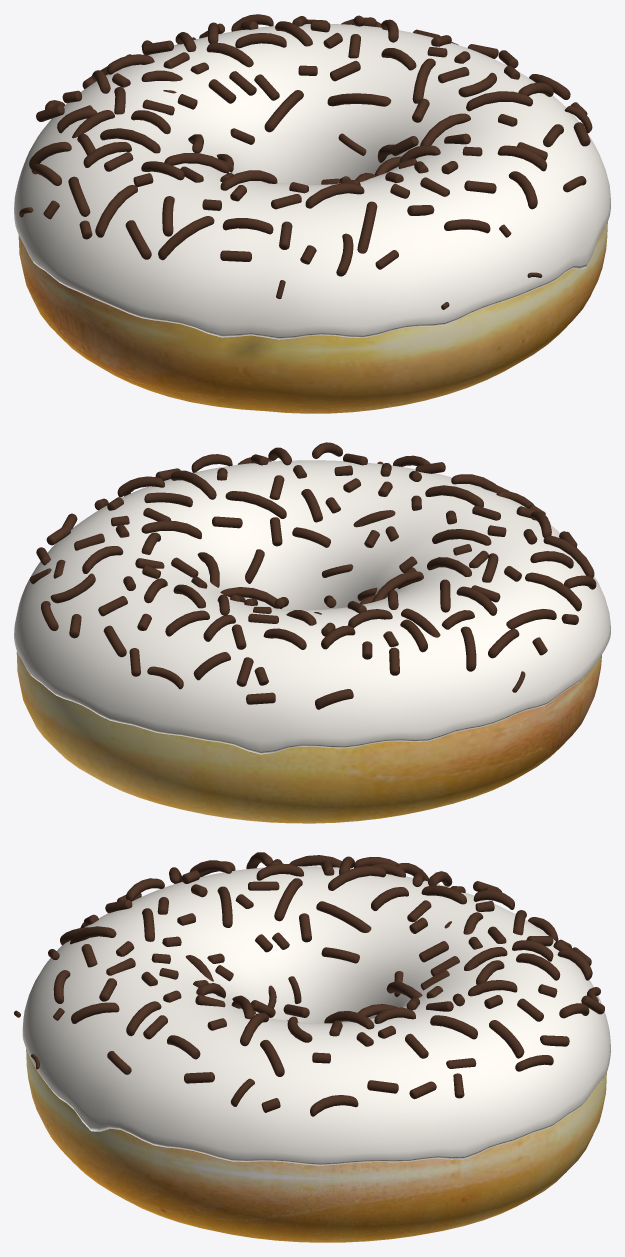
File: white_chocolate_vermicheli.glb
3 views of the same model, one above another, from view 1: azimuth 30°, elevation 25°; view 2: azimuth 150°, elevation 25°; view 3: azimuth 270°, elevation 25° (orthographic). The views are drawn at different scales.
Visible parts, largest first — view 1: white, Torus, blue.002; view 2: white, Torus, blue.002; view 3: white, Torus, blue.002.
Part boxes in pixels (left/top/right/bottom): white: left=14, top=24, right=610, bottom=339; Torus: left=18, top=221, right=607, bottom=413; blue.002: left=19, top=14, right=592, bottom=309; white: left=14, top=460, right=610, bottom=754; Torus: left=16, top=651, right=601, bottom=823; blue.002: left=29, top=442, right=596, bottom=709; white: left=22, top=866, right=610, bottom=1165; Torus: left=26, top=1048, right=606, bottom=1242; blue.002: left=14, top=852, right=604, bottom=1116.
Size of the model in its own units: 0.1988 by 0.0773 by 0.1999.
3 materials, 1 textured.
